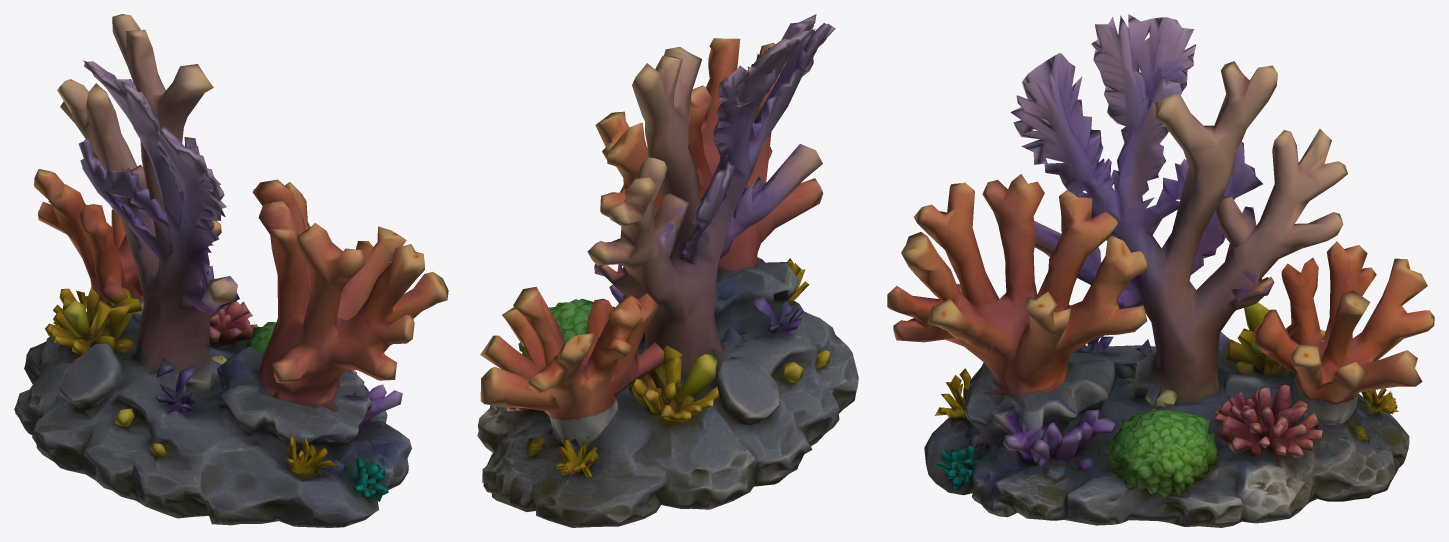
Rendered from coral-b.glb.
3 views of the same model, side by side, from view 1: azimuth 30°, elevation 25°; view 2: azimuth 150°, elevation 25°; view 3: azimuth 270°, elevation 25° (orthographic). The views are drawn at different scales.
Parts seen in each view (by area): view 1: tripo_node_eebe2366-13b1-46f4-9ba9-bf977e5f9f8d; view 2: tripo_node_eebe2366-13b1-46f4-9ba9-bf977e5f9f8d; view 3: tripo_node_eebe2366-13b1-46f4-9ba9-bf977e5f9f8d.
Boxes of the visible parts, x1,y1,x2,y2 form: tripo_node_eebe2366-13b1-46f4-9ba9-bf977e5f9f8d: (14, 14, 448, 527); tripo_node_eebe2366-13b1-46f4-9ba9-bf977e5f9f8d: (477, 14, 858, 527); tripo_node_eebe2366-13b1-46f4-9ba9-bf977e5f9f8d: (887, 14, 1434, 527).
Bounding box in the file's own units: 0.6036 × 0.7959 × 1.
Materials: 1 (1 with a texture image).
